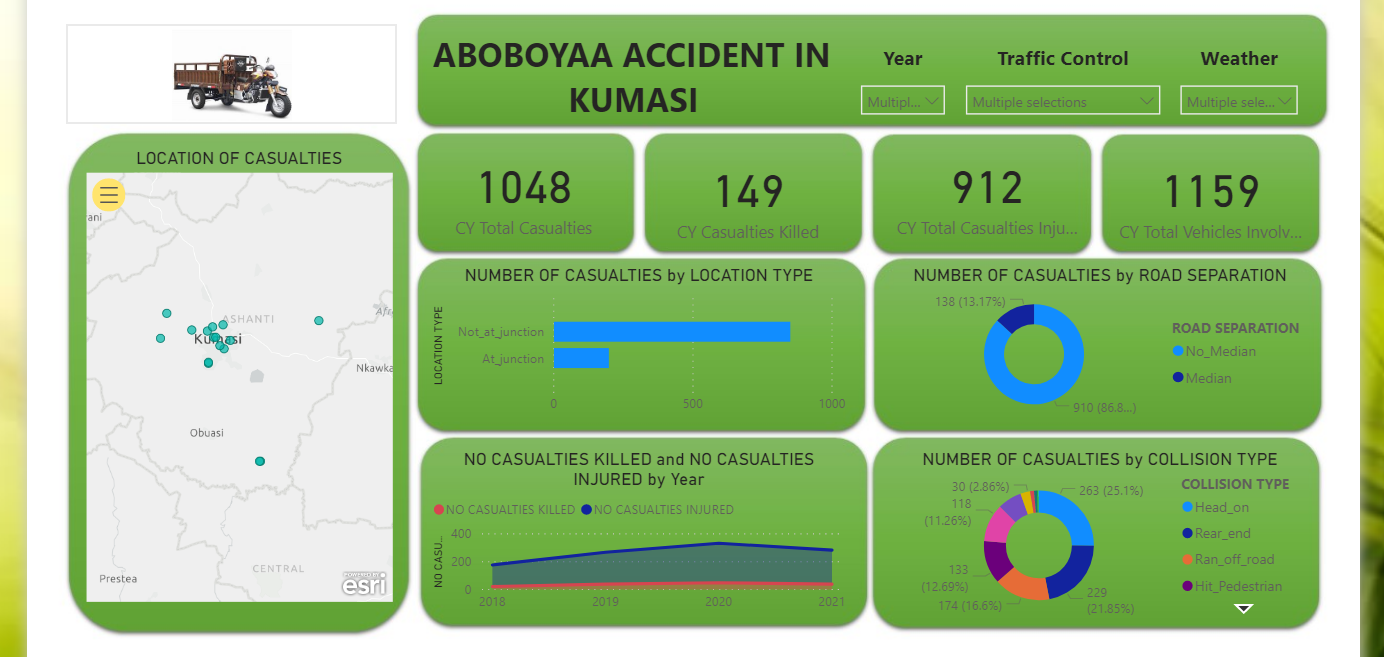

The page's visual inventory and layout, read from the dashboard file:
{"tool":"powerbi","page":{"name":"Page 1","canvas":[1280,720],"ordinal":0},"visuals":[{"type":"slicer","fields":{"Values":["Calender.Year"]},"box":[790.4,144,100.8,48],"z":0},{"type":"slicer","fields":{"Values":["Excel data.TRAFFIC CONTROL"]},"box":[891.2,144,206.4,48],"z":1000},{"type":"slicer","fields":{"Values":["Excel data.WEATHER"]},"box":[1097.6,144,132.8,48],"z":2000},{"type":"card","fields":{"Values":["Calender.Total Casualties"]},"box":[384,208,184,100.8],"z":3000},{"type":"card","fields":{"Values":["Calender.CY Casualties Killed"]},"box":[604.8,212.8,174.4,96],"z":4000},{"type":"card","fields":{"Values":["Calender.CY Total Vehicles Involved"]},"box":[1043.2,212.8,187.2,96],"z":5000},{"type":"card","fields":{"Values":["Excel data.CY Total Casualties Injured"]},"box":[828.8,208,184,100.8],"z":6000},{"type":"stackedAreaChart","fields":{"Category":["Calender.Year"],"Y":["Sum(Excel data.NO CASUALTIES KILLED)","Sum(Excel data.NO CASUALTIES INJURED)"]},"box":[384,502.4,406.4,166.4],"z":7000},{"type":"donutChart","fields":{"Y":["Sum(Excel data.NUMBER OF CASUALTIES)"],"Category":["Excel data.COLLISION TYPE"]},"box":[828.8,502.4,401.6,166.4],"z":8000},{"type":"donutChart","fields":{"Series":["Excel data.ROAD SEPARATION"],"Y":["Sum(Excel data.NUMBER OF CASUALTIES)"]},"box":[828.8,324.8,401.6,153.6],"z":9000},{"type":"clusteredBarChart","fields":{"Y":["Sum(Excel data.NUMBER OF CASUALTIES)"],"Category":["Excel data.LOCATION TYPE"]},"box":[384,324.8,406.4,153.6],"z":10000},{"type":"textbox","box":[790.4,108.8,100.8,35.2],"z":11000},{"type":"textbox","box":[891.2,108.8,206.4,36.8],"z":12000},{"type":"textbox","box":[1097.6,108.8,132.8,35.2],"z":13000},{"type":"textbox","box":[384,96,395.2,96],"z":15000},{"type":"image","box":[36.8,94.4,318.4,97.6],"z":16000},{"type":"esriVisual","title":"LOCATION OF CASUALTIES","fields":{"Latitude":["Table.Latitude"],"Longitude":["Table.Longitude"],"Size":["Sum(Excel data.NUMBER OF CASUALTIES)"]},"box":[51.2,212.8,304,441.6],"z":17000}]}

Visuals, with their boxes on the page's 1280x720 design canvas (x1, y1, x2, y2). These are canvas units, not pixel positions in the 1384x657 screenshot, which may show the page scaled, cropped or inside an application window:
slicer - Calender.Year: bbox(790, 144, 891, 192)
slicer - Excel data.TRAFFIC CONTROL: bbox(891, 144, 1098, 192)
slicer - Excel data.WEATHER: bbox(1098, 144, 1230, 192)
card - Calender.Total Casualties: bbox(384, 208, 568, 309)
card - Calender.CY Casualties Killed: bbox(605, 213, 779, 309)
card - Calender.CY Total Vehicles Involved: bbox(1043, 213, 1230, 309)
card - Excel data.CY Total Casualties Injured: bbox(829, 208, 1013, 309)
stackedAreaChart - Calender.Year x Sum(Excel data.NO CASUALTIES KILLED): bbox(384, 502, 790, 669)
donutChart - Sum(Excel data.NUMBER OF CASUALTIES) x Excel data.COLLISION TYPE: bbox(829, 502, 1230, 669)
donutChart - Excel data.ROAD SEPARATION x Sum(Excel data.NUMBER OF CASUALTIES): bbox(829, 325, 1230, 478)
clusteredBarChart - Sum(Excel data.NUMBER OF CASUALTIES) x Excel data.LOCATION TYPE: bbox(384, 325, 790, 478)
textbox: bbox(790, 109, 891, 144)
textbox: bbox(891, 109, 1098, 146)
textbox: bbox(1098, 109, 1230, 144)
textbox: bbox(384, 96, 779, 192)
image: bbox(37, 94, 355, 192)
"LOCATION OF CASUALTIES" esriVisual: bbox(51, 213, 355, 654)
